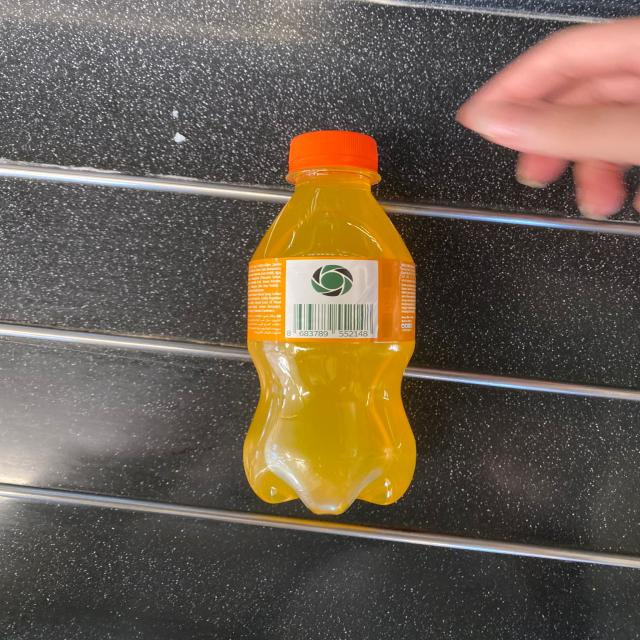yan_yemek: (241, 129, 419, 515)
